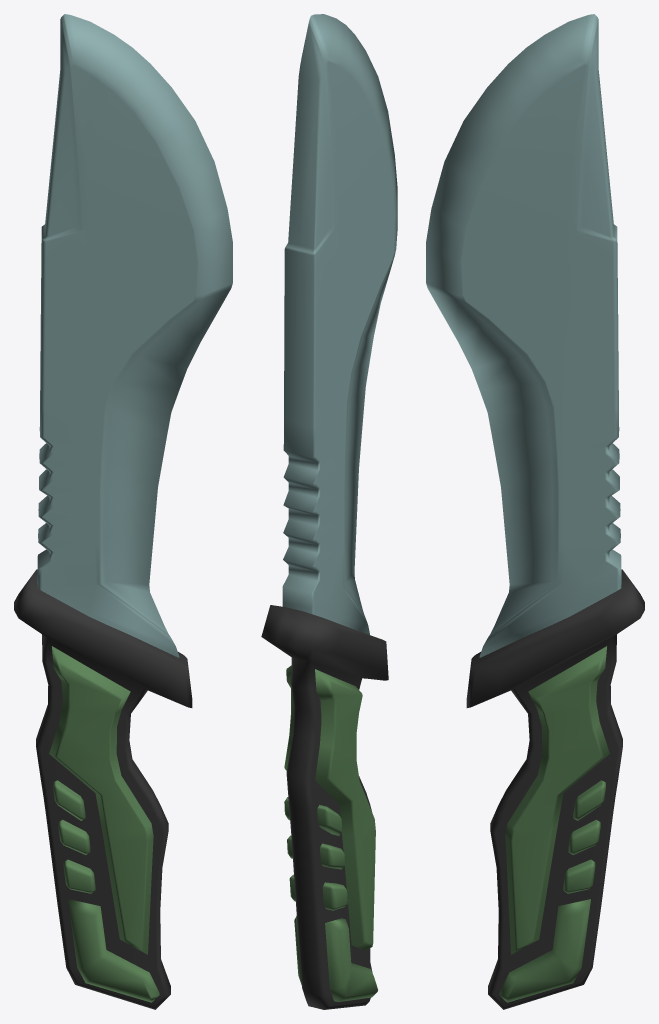
File: knife.fbx
3 views of the same model, side by side, from view 1: azimuth 90°, elevation 25°; view 2: azimuth 150°, elevation 25°; view 3: azimuth 270°, elevation 25° (orthographic). The views are drawn at different scales.
Visible parts, largest first — view 1: Knife_Low; view 2: Knife_Low; view 3: Knife_Low.
Part boxes in pixels (x1,y1,x2,y2): Knife_Low: (14, 14, 232, 1009); Knife_Low: (261, 14, 397, 1009); Knife_Low: (426, 14, 644, 1009).
Size of the model in its own units: 4.54 by 65.43 by 13.08.
